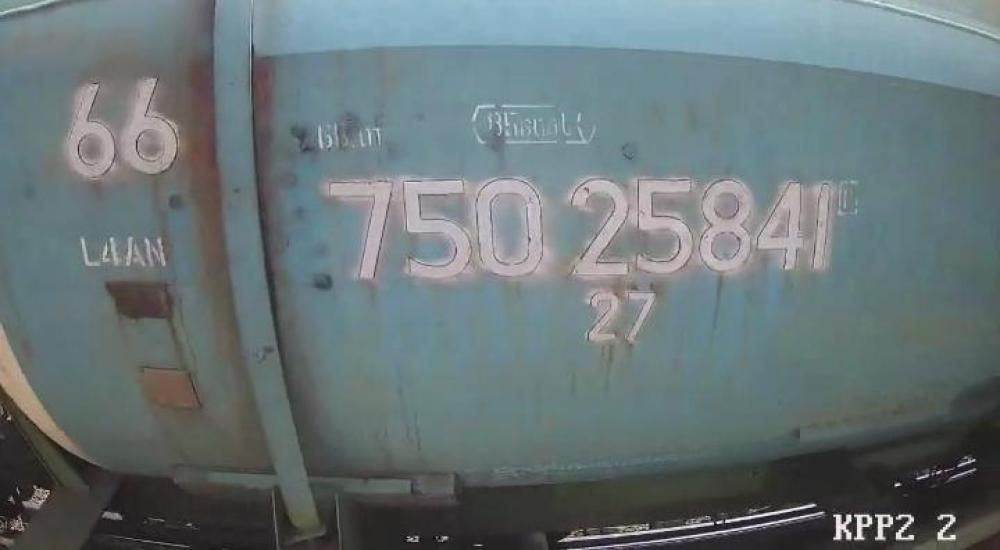Wagon-number: (318, 168, 839, 281)
